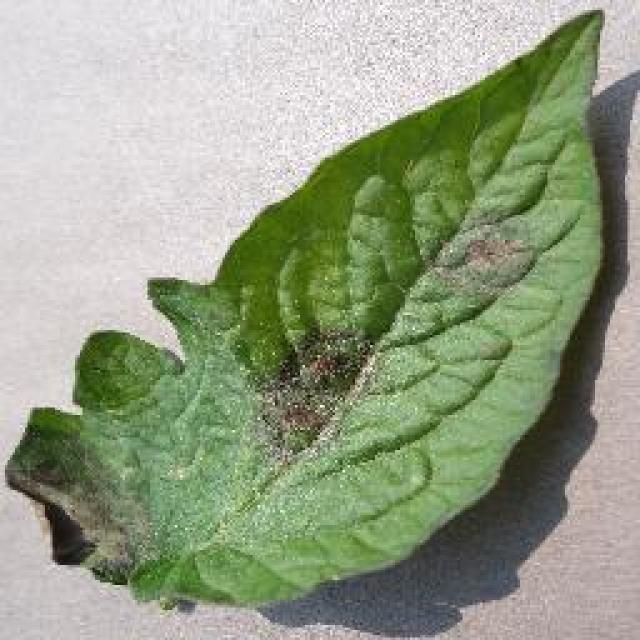Tomato Late Blight: (65, 180, 477, 553)
